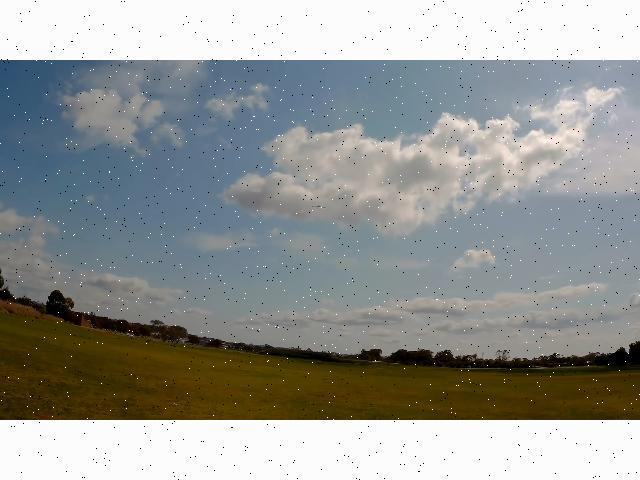Anti-Drone: (312, 206, 326, 208)
